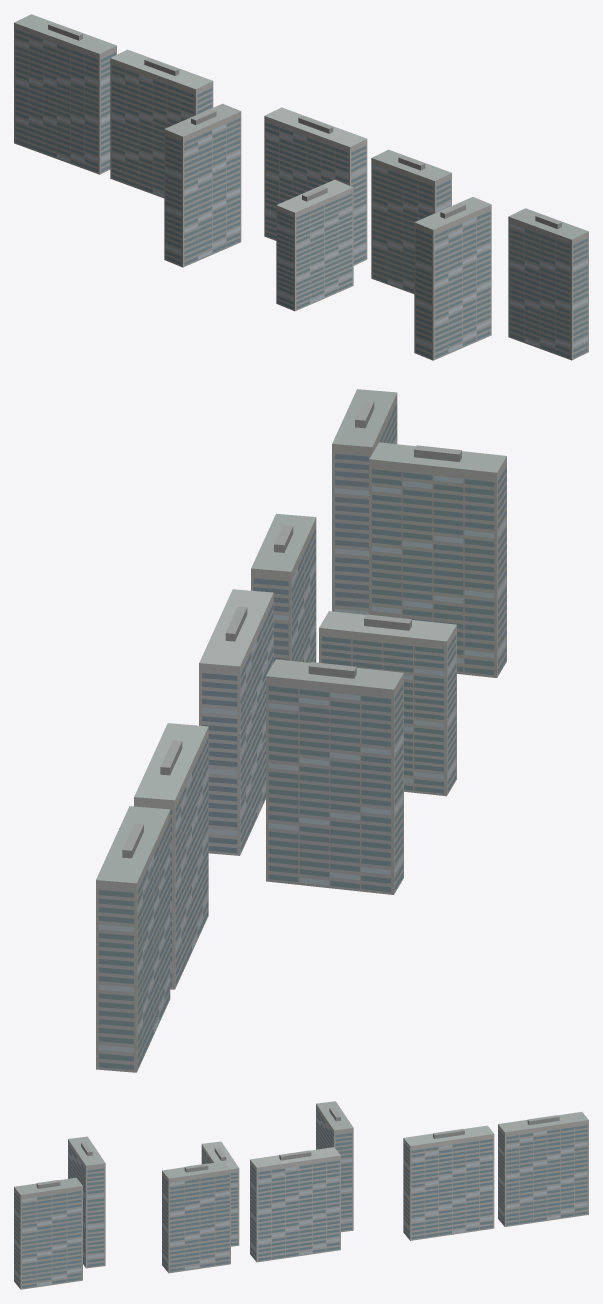
The model's file is apt-a15381706.glb.
3 renders of one model, top to bottom at view 1: azimuth 30°, elevation 25°; view 2: azimuth 150°, elevation 25°; view 3: azimuth 270°, elevation 25°, orthographic. The views are drawn at different scales.
Parts seen in each view (by area): view 1: apt-a15381706; view 2: apt-a15381706; view 3: apt-a15381706.
Boxes of the visible parts, x1=… form: apt-a15381706: x1=14, y1=14, x2=588, y2=360; apt-a15381706: x1=96, y1=389, x2=506, y2=1072; apt-a15381706: x1=14, y1=1101, x2=588, y2=1289.
Size of the model in its own units: 116 by 67 by 328.
